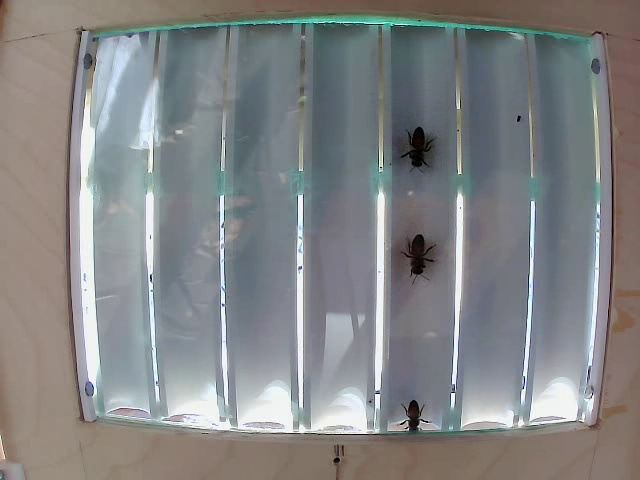bee: (399, 232, 432, 288), (399, 114, 428, 163)
